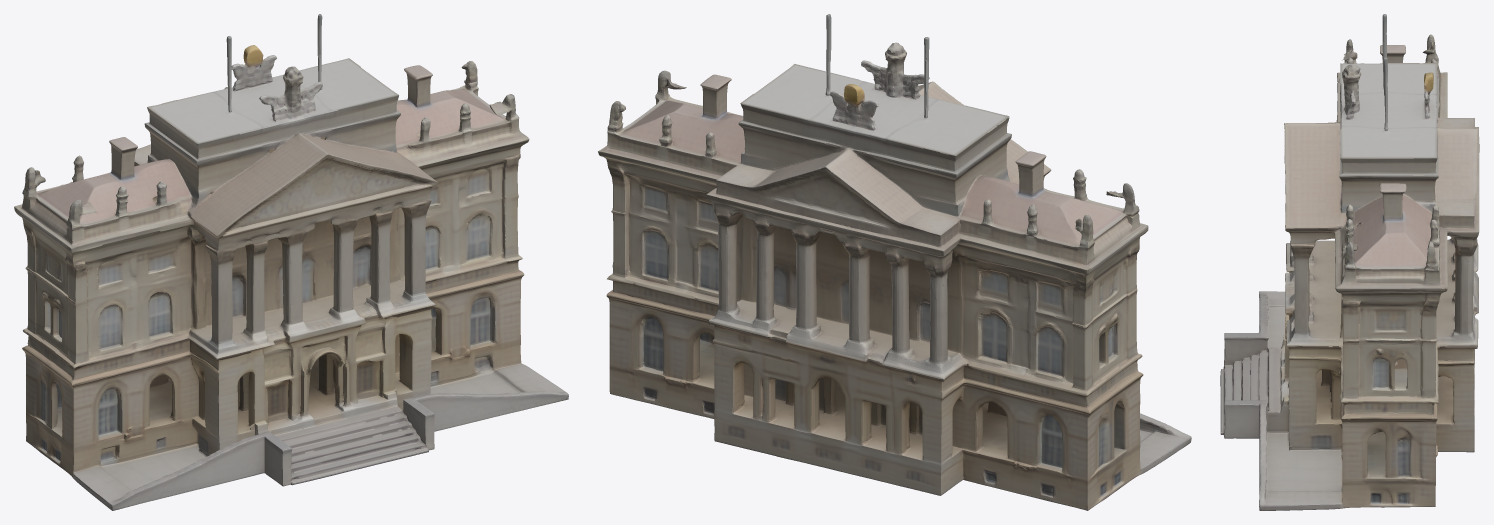
The picture shows the model from 3 angles, left to right: view 1: azimuth 30°, elevation 25°; view 2: azimuth 150°, elevation 25°; view 3: azimuth 270°, elevation 25°; orthographic projection. The views are drawn at different scales.
Visible parts, largest first — view 1: geometry_0; view 2: geometry_0; view 3: geometry_0.
Part boxes in pixels (left/top/right/bottom): geometry_0: left=14, top=14, right=568, bottom=510; geometry_0: left=598, top=14, right=1191, bottom=510; geometry_0: left=1220, top=14, right=1479, bottom=510.
Size of the model in its own units: 1 by 0.7987 by 0.5099.
